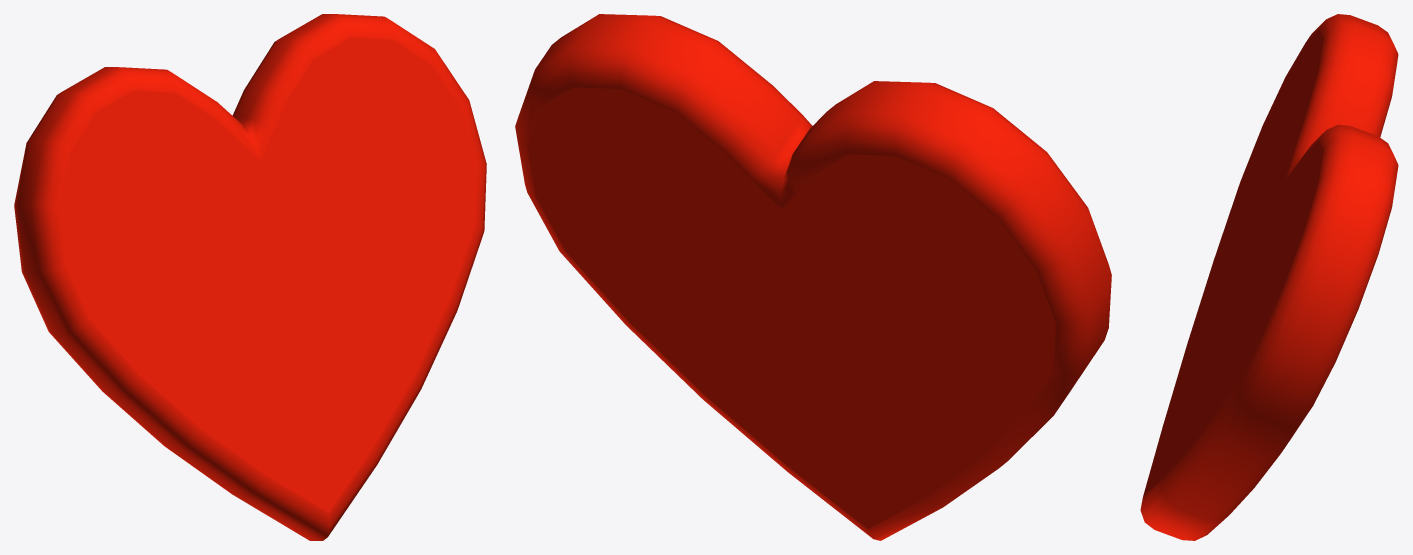
Rendered from heart.fbx.
3 renders of one model, left to right at view 1: azimuth 30°, elevation 25°; view 2: azimuth 150°, elevation 25°; view 3: azimuth 270°, elevation 25°, orthographic. The views are drawn at different scales.
Visible parts, largest first — view 1: Cylinder.003; view 2: Cylinder.003; view 3: Cylinder.003.
Part boxes in pixels (x1,y1,x2,y2): Cylinder.003: (14,14,486,540); Cylinder.003: (515,14,1111,540); Cylinder.003: (1140,14,1398,540).
Size of the model in its own units: 89.44 by 84.75 by 43.03.
